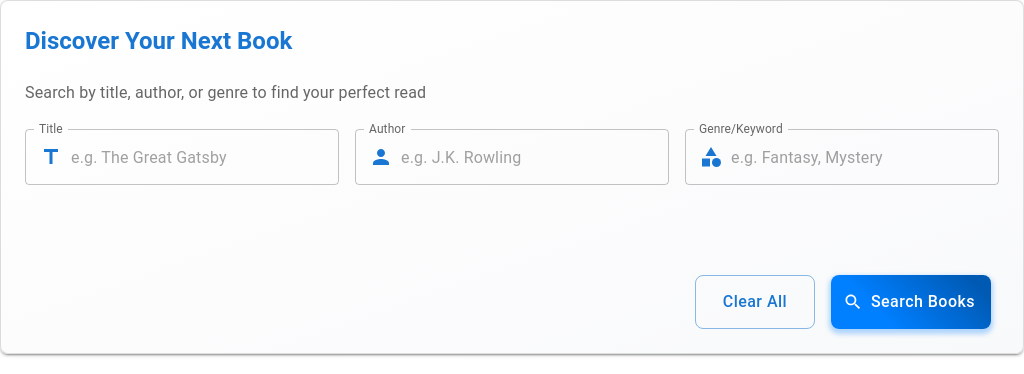
Test: SearchForm › shows validation error when submitting empty form
The width and height of the screenshot is (1024, 374).
Click the button "Search Books".
click(911, 302)  # box [831,275,991,329]
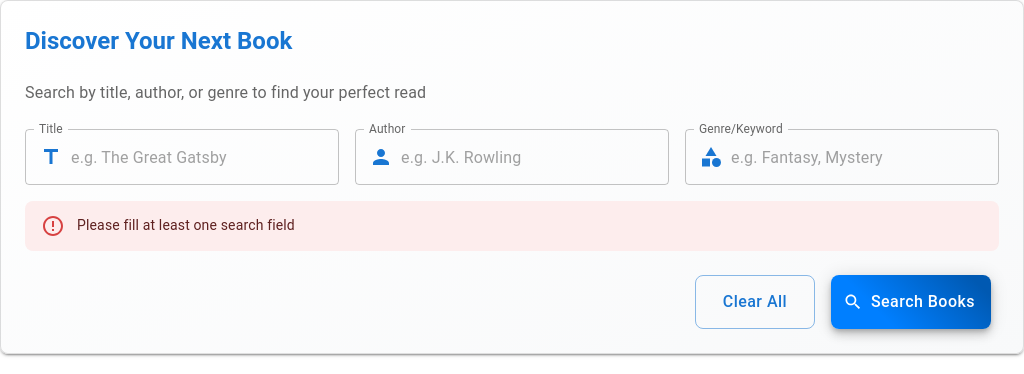
Result: the text "Please fill at least one search field" is shown at [77,217,295,233]
